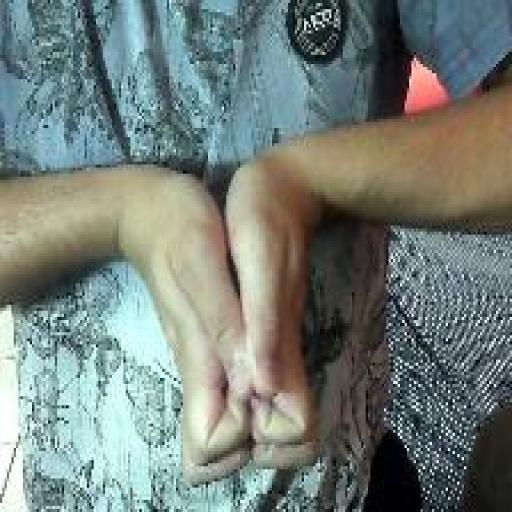I -boar-: (123, 154, 327, 489)
